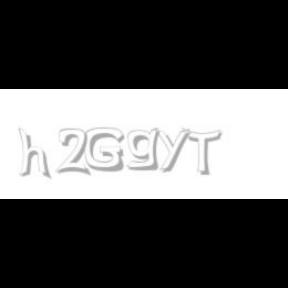2: (55, 128, 89, 176)
G: (84, 128, 124, 172)
T: (182, 128, 222, 176)
g: (126, 128, 163, 171)
h: (18, 128, 52, 180)
y: (154, 128, 194, 172)
